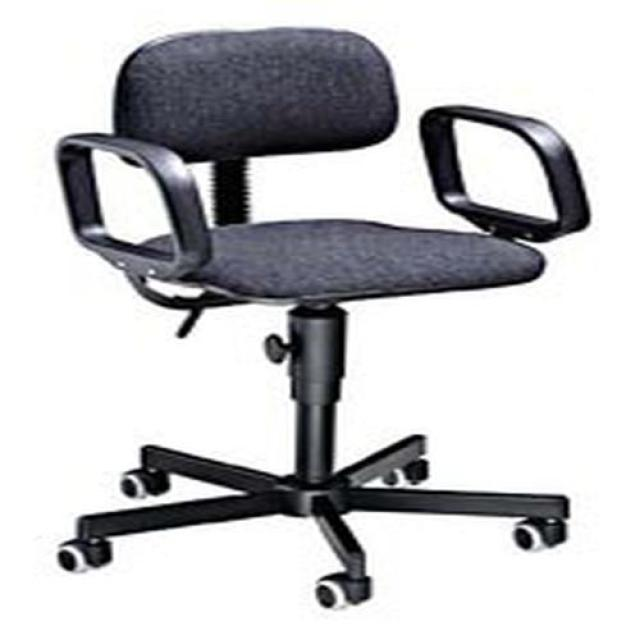swivelchair: (54, 29, 591, 612)
